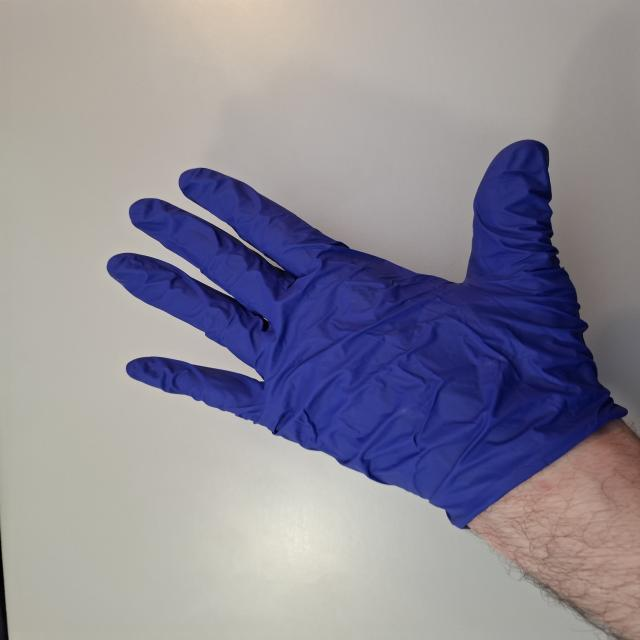glove_on: (106, 137, 607, 524)
